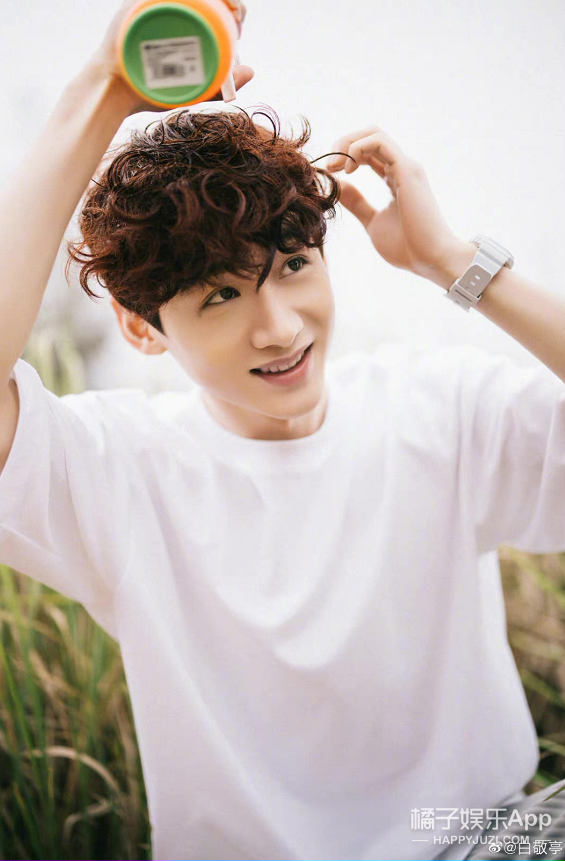person: (79, 123, 473, 840)
